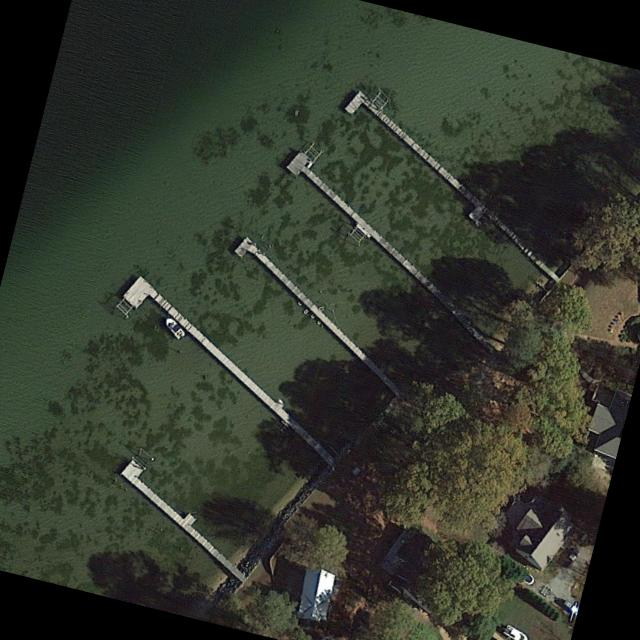ship: (161, 314, 184, 340), (501, 623, 529, 640)
